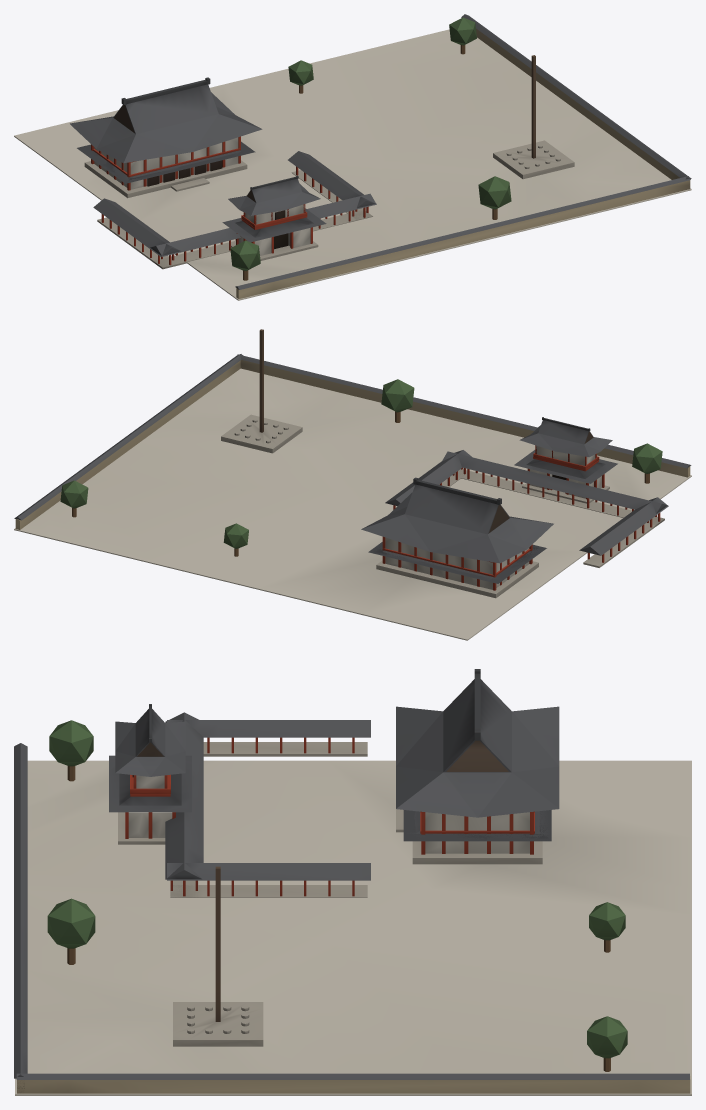
File: toji-800.glb
3 views of the same model, one above another, from view 1: azimuth 30°, elevation 25°; view 2: azimuth 150°, elevation 25°; view 3: azimuth 270°, elevation 25° (orthographic). The views are drawn at different scales.
Parts seen in each view (by area): view 1: p0_grounds, p1_halls, p2_roofs; view 2: p0_grounds, p1_halls, p2_roofs; view 3: p0_grounds, p1_halls, p2_roofs.
Part boxes in pixels (x1=…): p0_grounds: x1=14, y1=14, x2=691, y2=300; p1_halls: x1=84, y1=17, x2=560, y2=280; p2_roofs: x1=70, y1=77, x2=326, y2=242; p0_grounds: x1=14, y1=354, x2=691, y2=640; p1_halls: x1=60, y1=329, x2=668, y2=598; p2_roofs: x1=361, y1=417, x2=617, y2=583; p0_grounds: x1=14, y1=743, x2=691, y2=1095; p1_halls: x1=47, y1=712, x2=627, y2=1071; p2_roofs: x1=109, y1=669, x2=559, y2=841.
Size of the model in its own units: 149 by 31.66 by 120.
